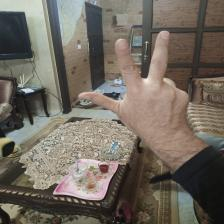three: (80, 31, 200, 138)
